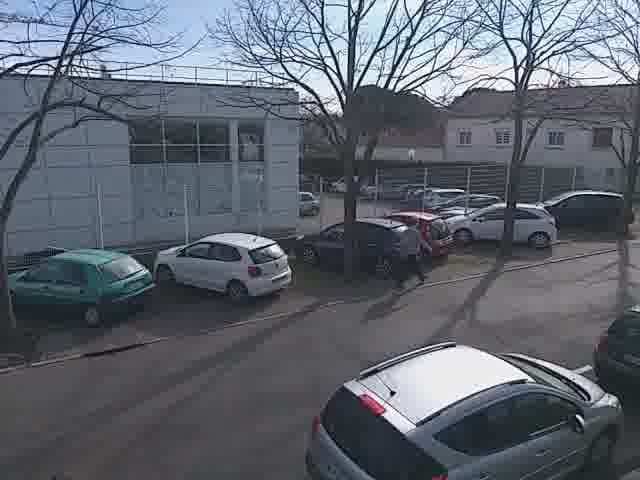persona: (395, 205, 433, 290)
